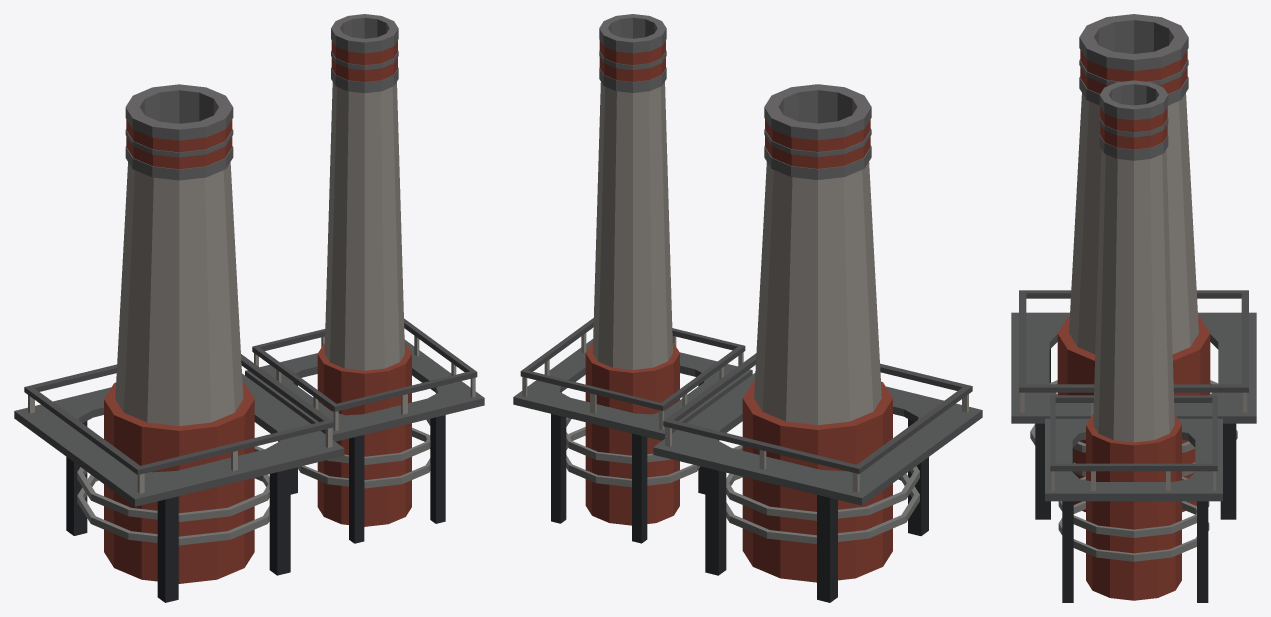
The model's file is Industrial Building_3.fbx.
3 renders of one model, left to right at view 1: azimuth 30°, elevation 25°; view 2: azimuth 150°, elevation 25°; view 3: azimuth 270°, elevation 25°, orthographic.
Visible parts, largest first — view 1: Industrial Building_3; view 2: Industrial Building_3; view 3: Industrial Building_3.
Part boxes in pixels (x1=…): Industrial Building_3: x1=14, y1=14, x2=484, y2=602; Industrial Building_3: x1=513, y1=14, x2=982, y2=602; Industrial Building_3: x1=1011, y1=14, x2=1256, y2=602.
Size of the model in its own units: 781 by 976 by 447.
